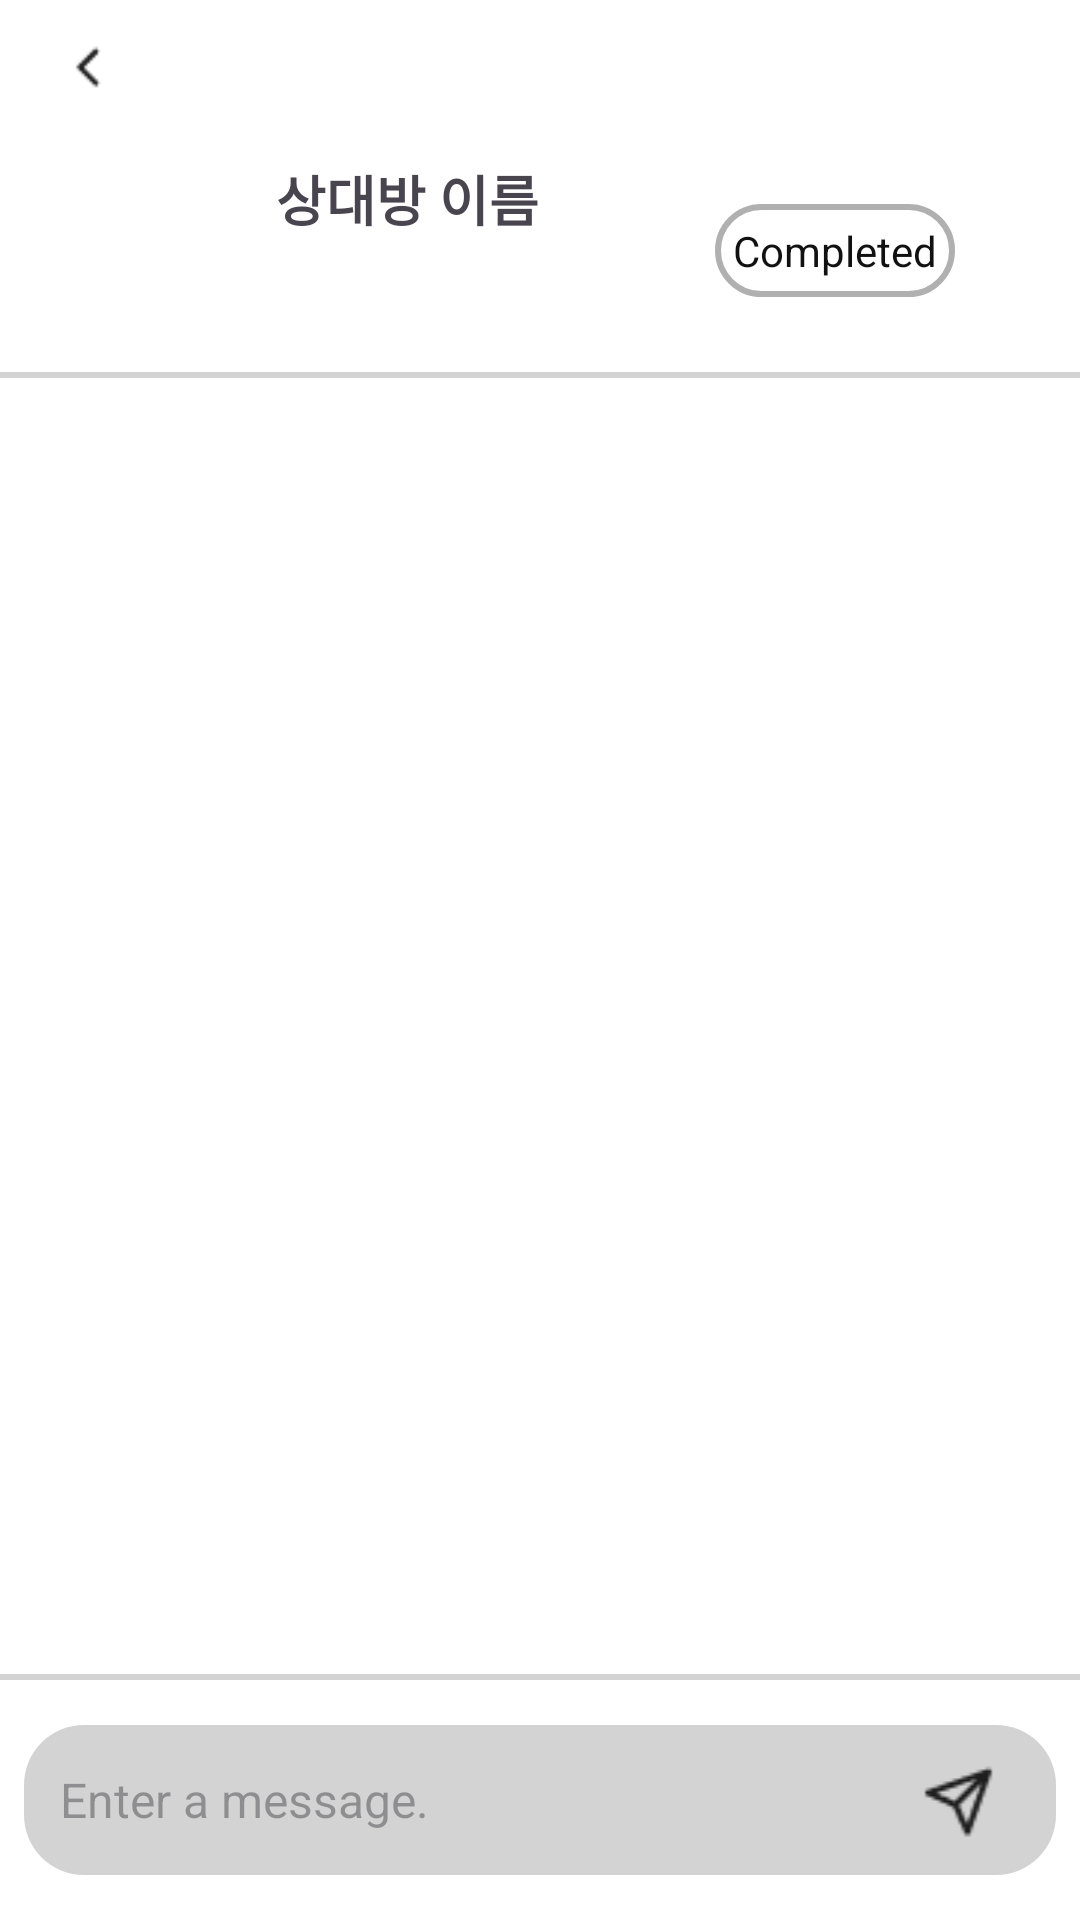

Icons on this 1080×1920 Android screen, each with the point to tap as [x,y]:
뒤로가기: [88,67]
메시지 보내기: [958,1802]
